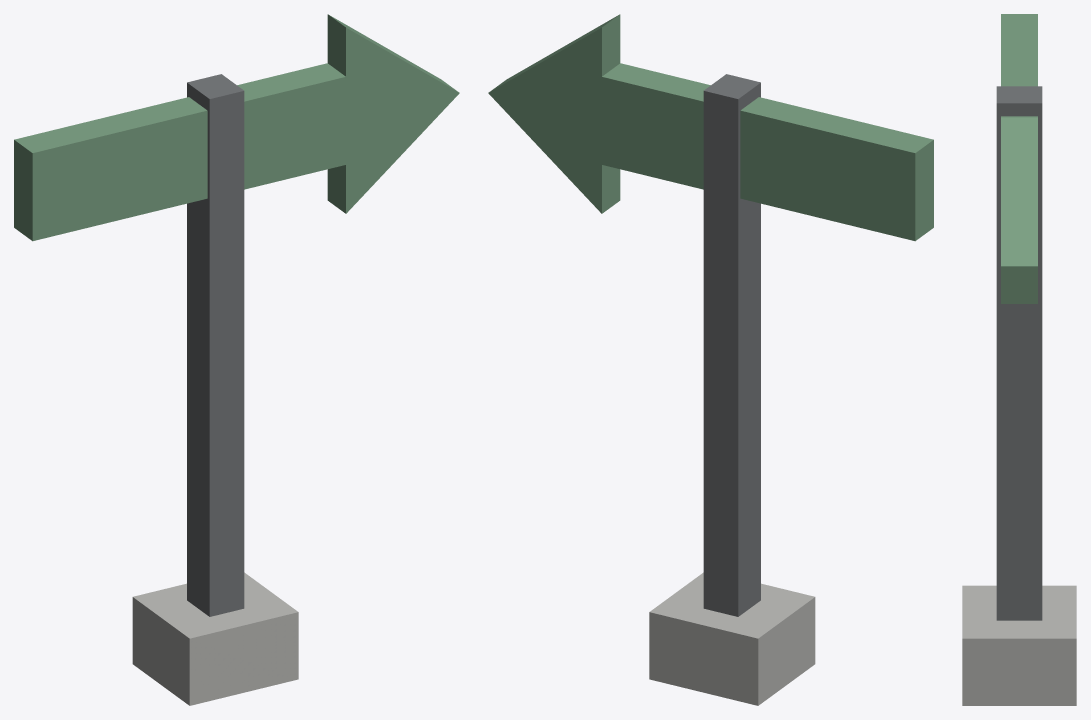
Rendered from direction_sign_03.glb.
3 views of the same model, side by side, from view 1: azimuth 30°, elevation 25°; view 2: azimuth 150°, elevation 25°; view 3: azimuth 270°, elevation 25° (orthographic).
Parts seen in each view (by area): view 1: Direction_sign_03; view 2: Direction_sign_03; view 3: Direction_sign_03.
Part boxes in pixels (x1,y1,x2,y2): Direction_sign_03: (14,14,459,705); Direction_sign_03: (488,14,933,705); Direction_sign_03: (962,14,1076,705).
Bounding box in the file's own units: 0.8634 × 1.2 × 0.2.
